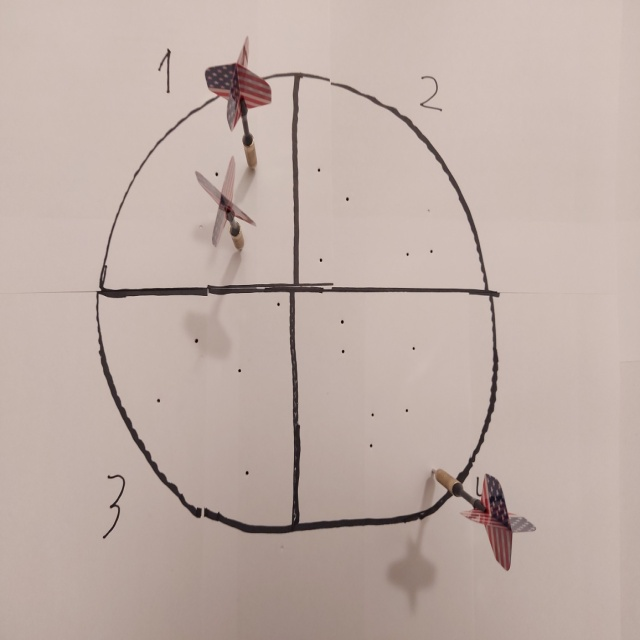Dart: (426, 462, 535, 573), (200, 35, 271, 166), (185, 154, 255, 260)
